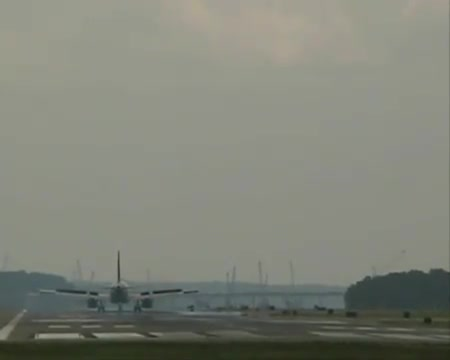aeroplane: (36, 250, 198, 314)
